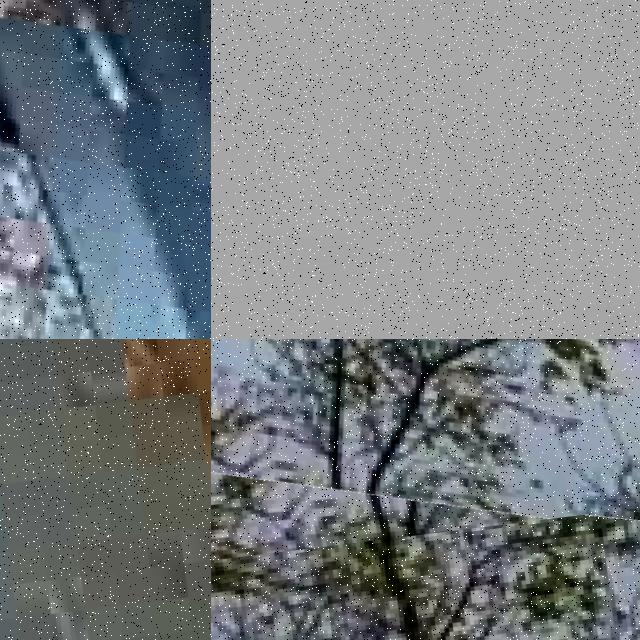drone: (211, 339, 640, 564), (0, 0, 211, 339)
